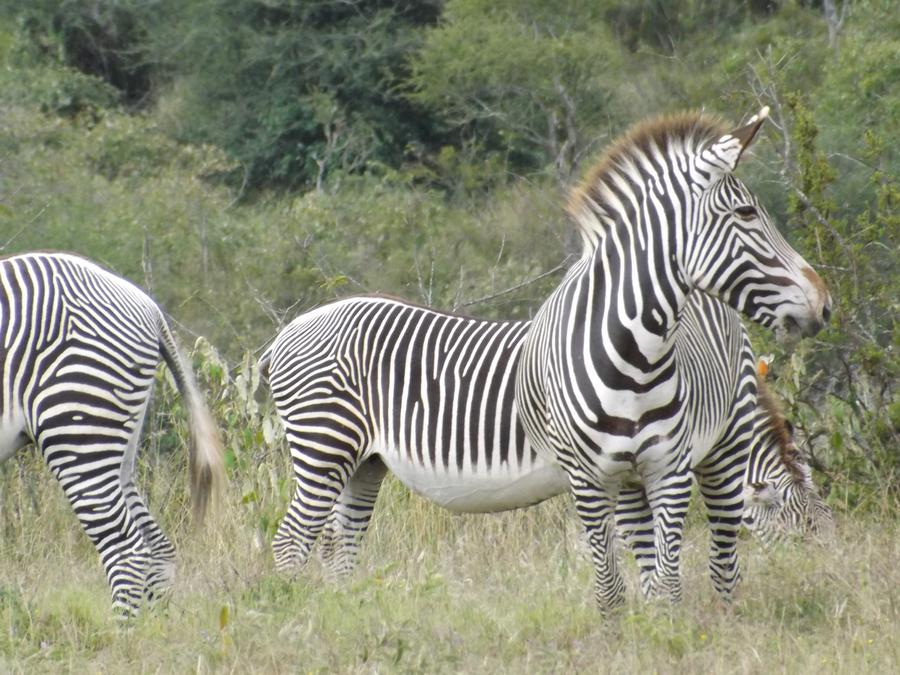zebra_grevys: (263, 285, 526, 493)
